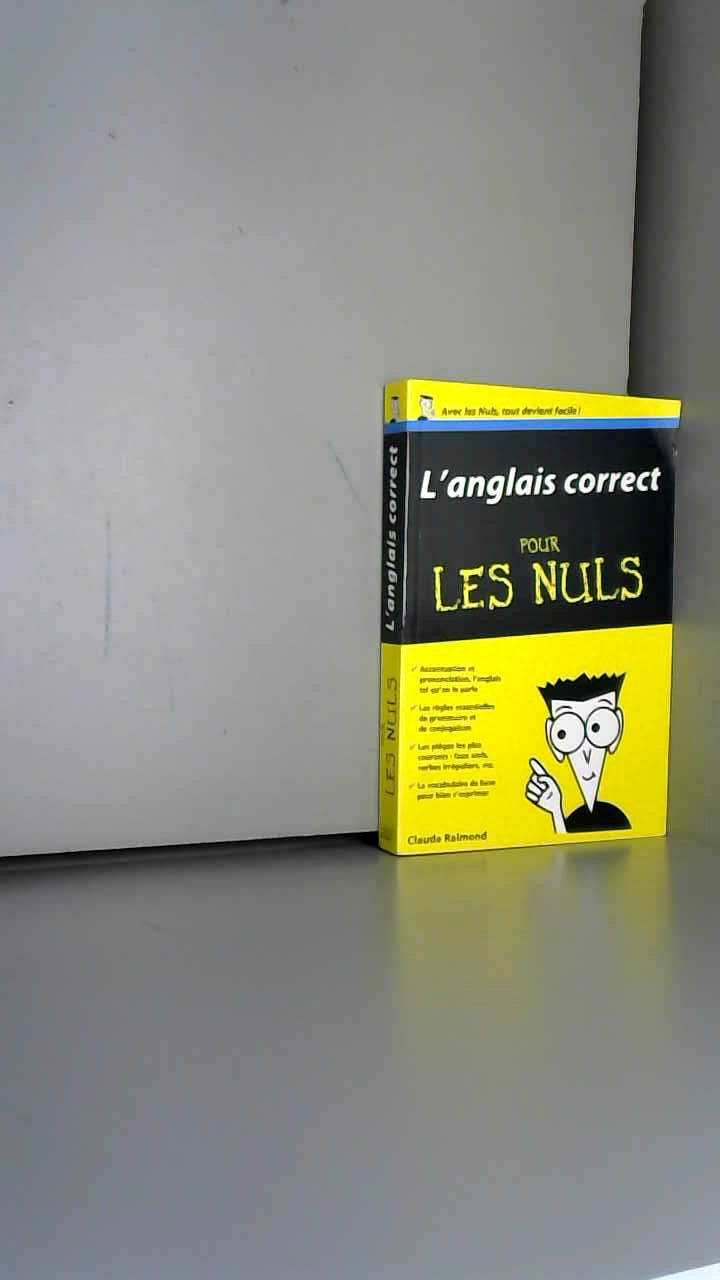book: (350, 390, 716, 913)
